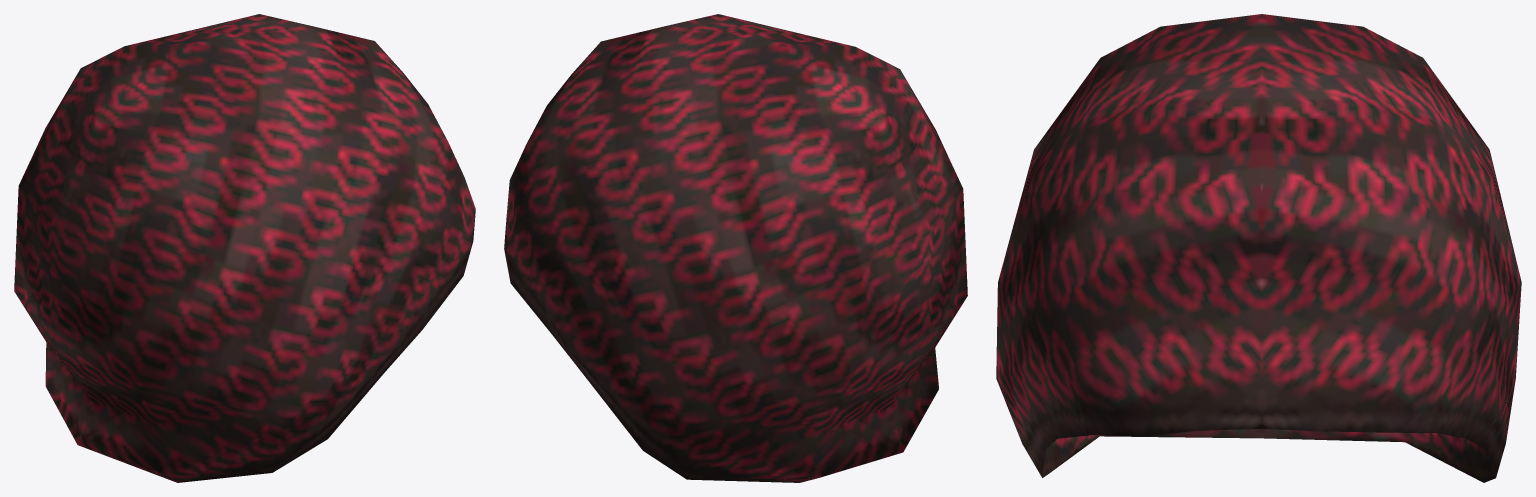
Rendered from hat_0450038.FBX.
The picture shows the model from 3 angles, left to right: view 1: azimuth 30°, elevation 25°; view 2: azimuth 150°, elevation 25°; view 3: azimuth 270°, elevation 25°; orthographic projection. The views are drawn at different scales.
Visible parts, largest first — view 1: hat_0450038; view 2: hat_0450038; view 3: hat_0450038.
Boxes of the visible parts, left/top/right/bottom form: hat_0450038: left=14, top=14, right=475, bottom=482; hat_0450038: left=504, top=14, right=967, bottom=482; hat_0450038: left=996, top=14, right=1521, bottom=482.
Size of the model in its own units: 24.7 by 23.08 by 22.8.
